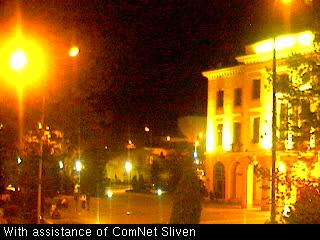person: (78, 192, 87, 208), (86, 192, 91, 210), (208, 190, 216, 201)
